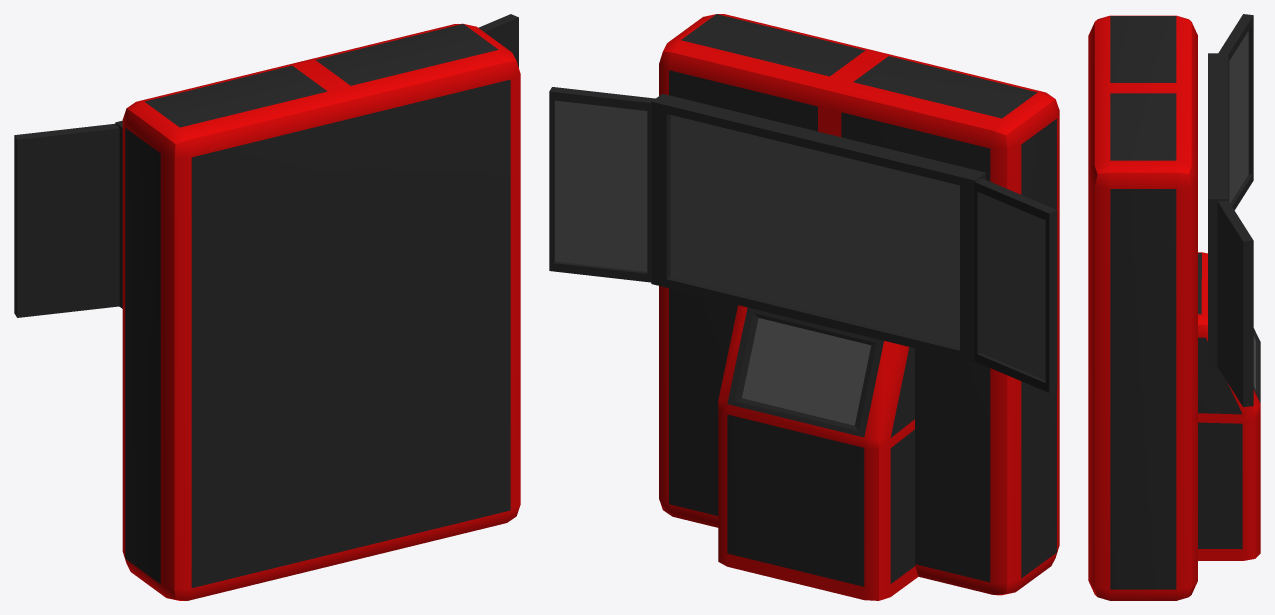
The model's file is MainFrame.fbx.
3 views of the same model, side by side, from view 1: azimuth 30°, elevation 25°; view 2: azimuth 150°, elevation 25°; view 3: azimuth 270°, elevation 25° (orthographic). The views are drawn at different scales.
Parts seen in each view (by area): view 1: pCube7, pCube8, pCube6, pCube3; view 2: pCube7, pCube3, pCube9, pCube6, pCube8; view 3: pCube7, pCube9, pCube6, pCube3, pCube8.
Boxes of the visible parts, x1,y1,x2,y2 form: pCube7: (122, 23, 520, 600); pCube8: (14, 123, 119, 317); pCube6: (478, 14, 518, 67); pCube3: (115, 120, 122, 308); pCube7: (659, 14, 1059, 595); pCube3: (651, 93, 985, 362); pCube9: (718, 305, 918, 600); pCube6: (549, 87, 655, 282); pCube8: (974, 178, 1057, 392); pCube7: (1088, 15, 1197, 600); pCube9: (1198, 252, 1260, 560); pCube6: (1217, 200, 1253, 407); pCube3: (1208, 53, 1228, 367); pCube8: (1218, 14, 1253, 210).
Size of the model in its own units: 2.98 by 2.69 by 0.953.
